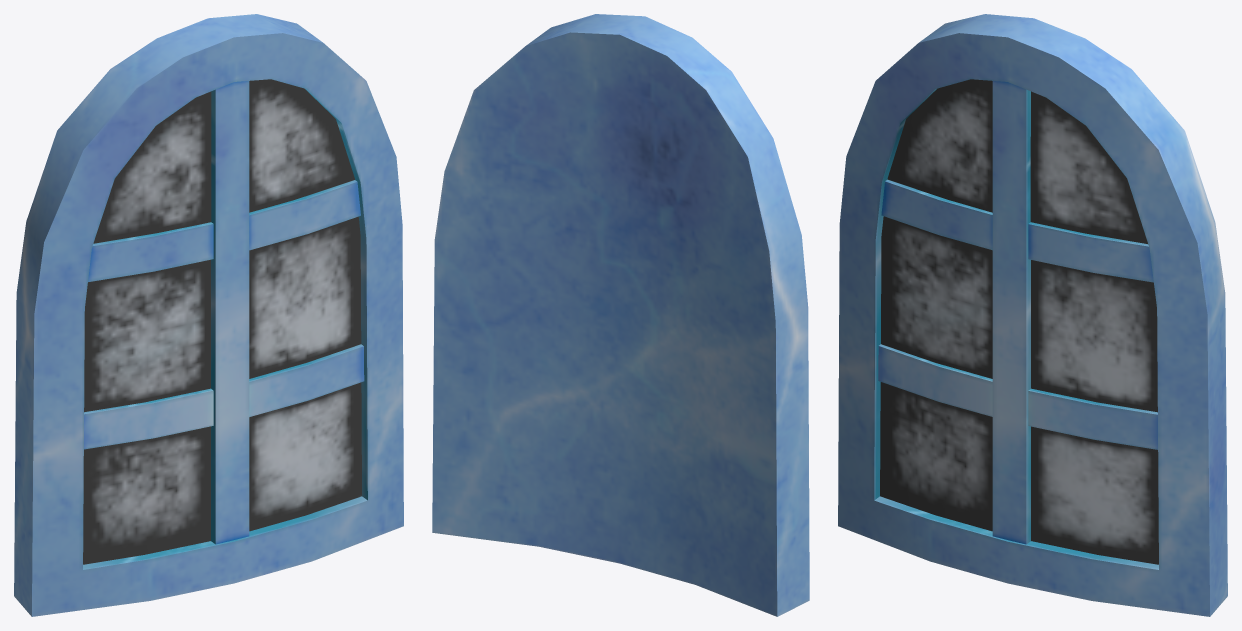
Rendered from sb_obj_outdoor023_IceCastle01_window01.fbx.
3 renders of one model, left to right at view 1: azimuth 30°, elevation 25°; view 2: azimuth 150°, elevation 25°; view 3: azimuth 330°, elevation 25°, orthographic. The views are drawn at different scales.
Visible parts, largest first — view 1: sb_obj_outdoor023_IceCastle01_window01; view 2: sb_obj_outdoor023_IceCastle01_window01; view 3: sb_obj_outdoor023_IceCastle01_window01.
Part boxes in pixels (box(x1,y1,x2,y2)): sb_obj_outdoor023_IceCastle01_window01: box(14, 14, 403, 616); sb_obj_outdoor023_IceCastle01_window01: box(432, 14, 809, 616); sb_obj_outdoor023_IceCastle01_window01: box(838, 14, 1227, 616).
Size of the model in its own units: 1.11 by 1.56 by 0.2166.
